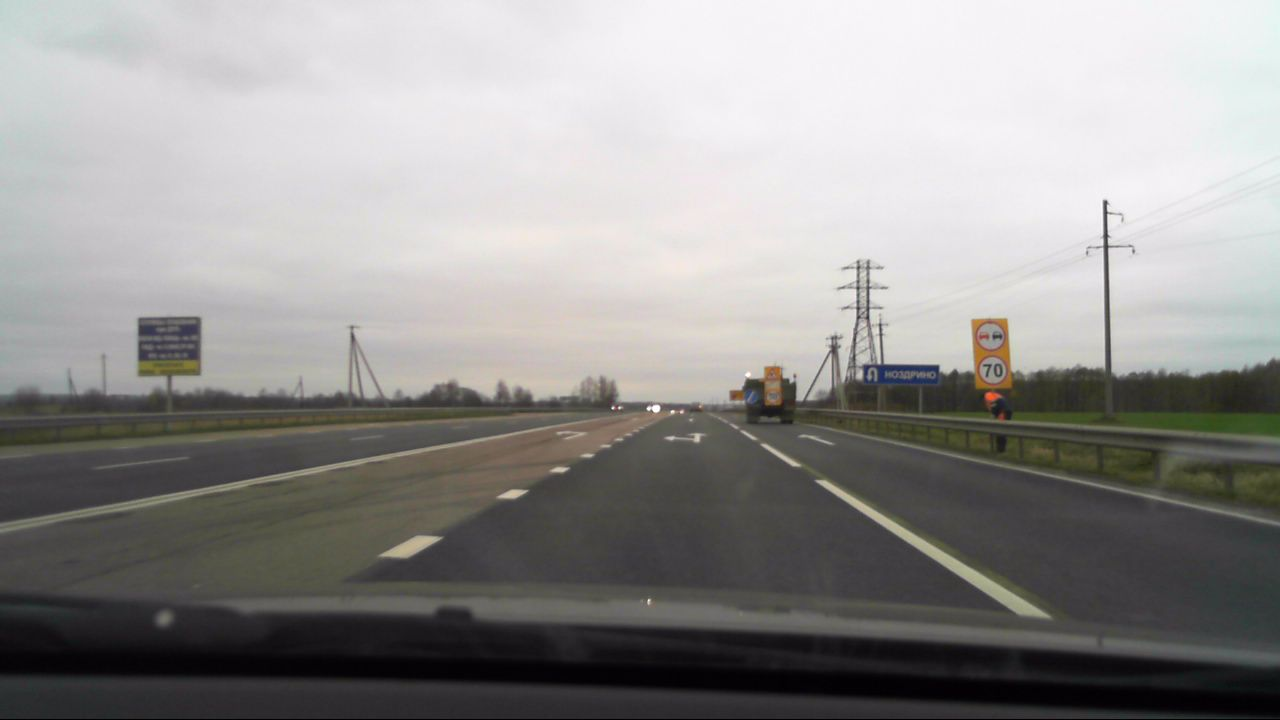U-turn: (863, 365, 882, 383)
